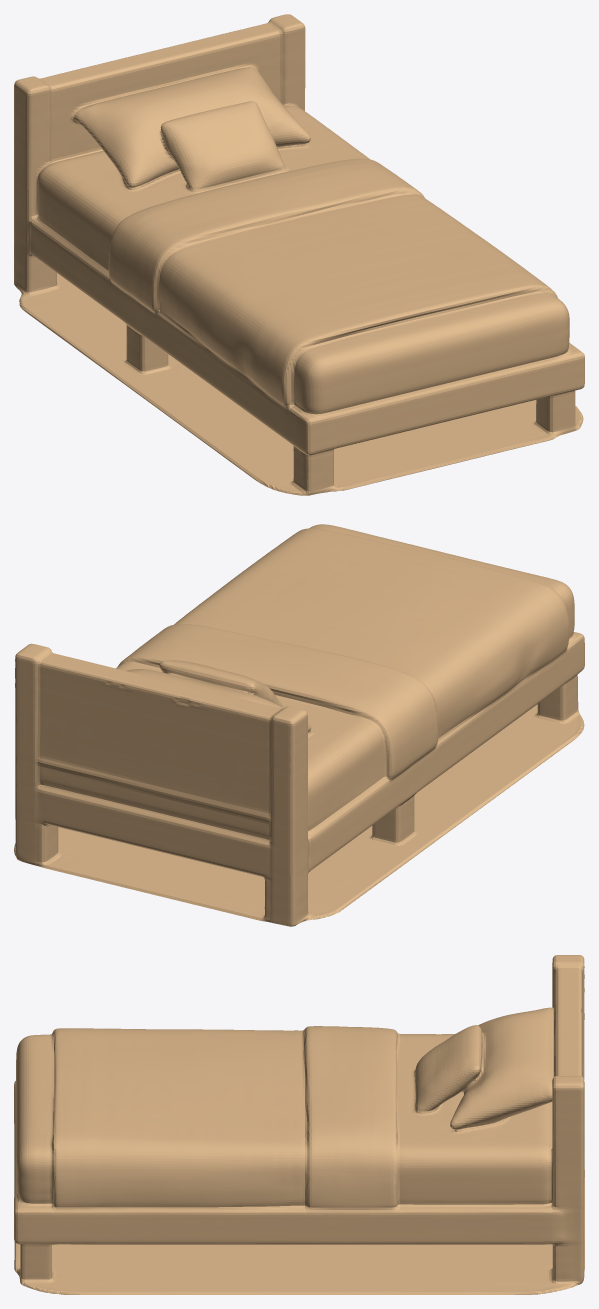
Rendered from 目标公寓_粉木单人床_Modly低清试件.fbx.
3 views of the same model, one above another, from view 1: azimuth 30°, elevation 25°; view 2: azimuth 150°, elevation 25°; view 3: azimuth 270°, elevation 25° (orthographic). The views are drawn at different scales.
Visible parts, largest first — view 1: geometry_0; view 2: geometry_0; view 3: geometry_0.
Part boxes in pixels (x1=…): geometry_0: x1=14, y1=14, x2=584, y2=495; geometry_0: x1=14, y1=524, x2=584, y2=926; geometry_0: x1=14, y1=955, x2=584, y2=1294.
Bounding box in the file's own units: 124 × 77.93 × 200.
